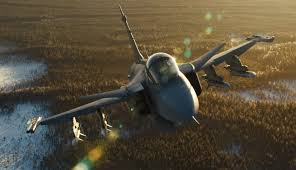fighter: (22, 6, 276, 144)
